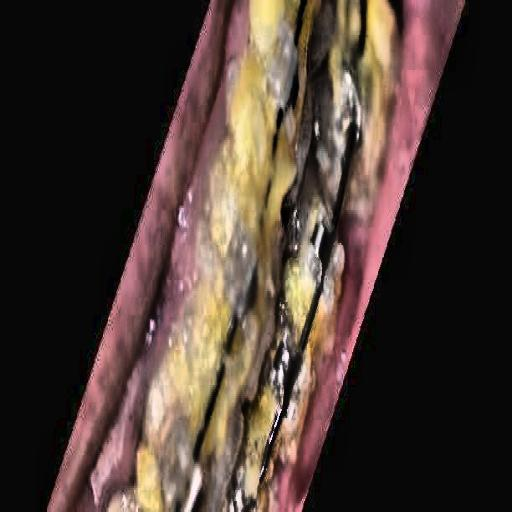Calculus: (212, 0, 382, 413), (146, 231, 311, 512)
